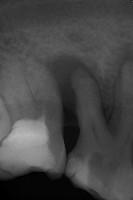Dental Caries: (43, 40, 133, 128)
